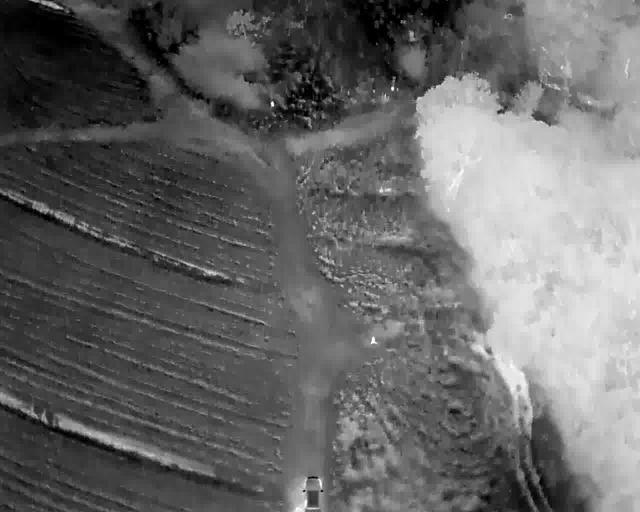car: (303, 476, 323, 511)
person: (369, 335, 377, 345)
